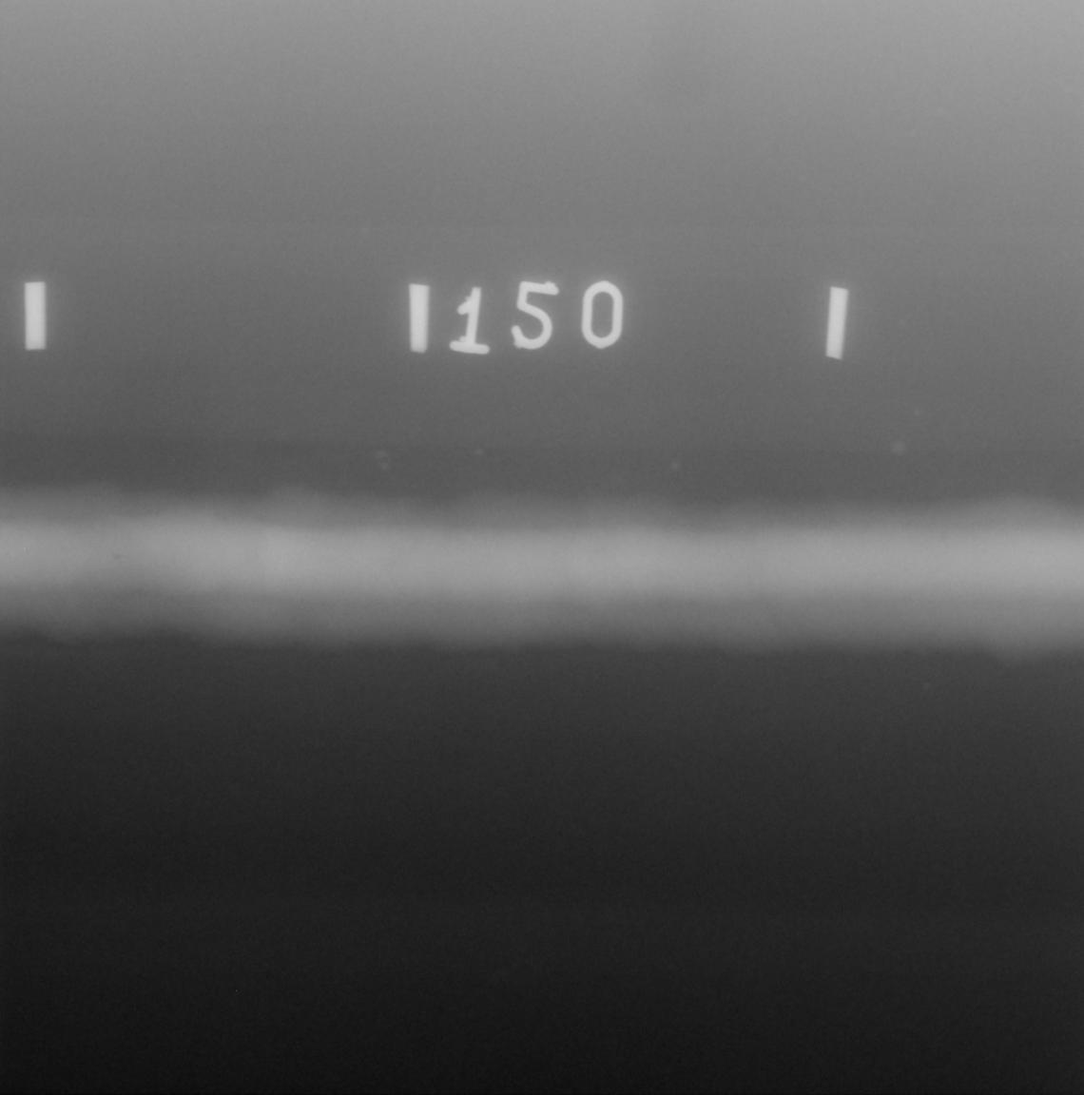Pore/Porosity: (113, 555, 121, 559), (942, 535, 946, 540), (982, 549, 987, 553), (681, 524, 686, 527)
